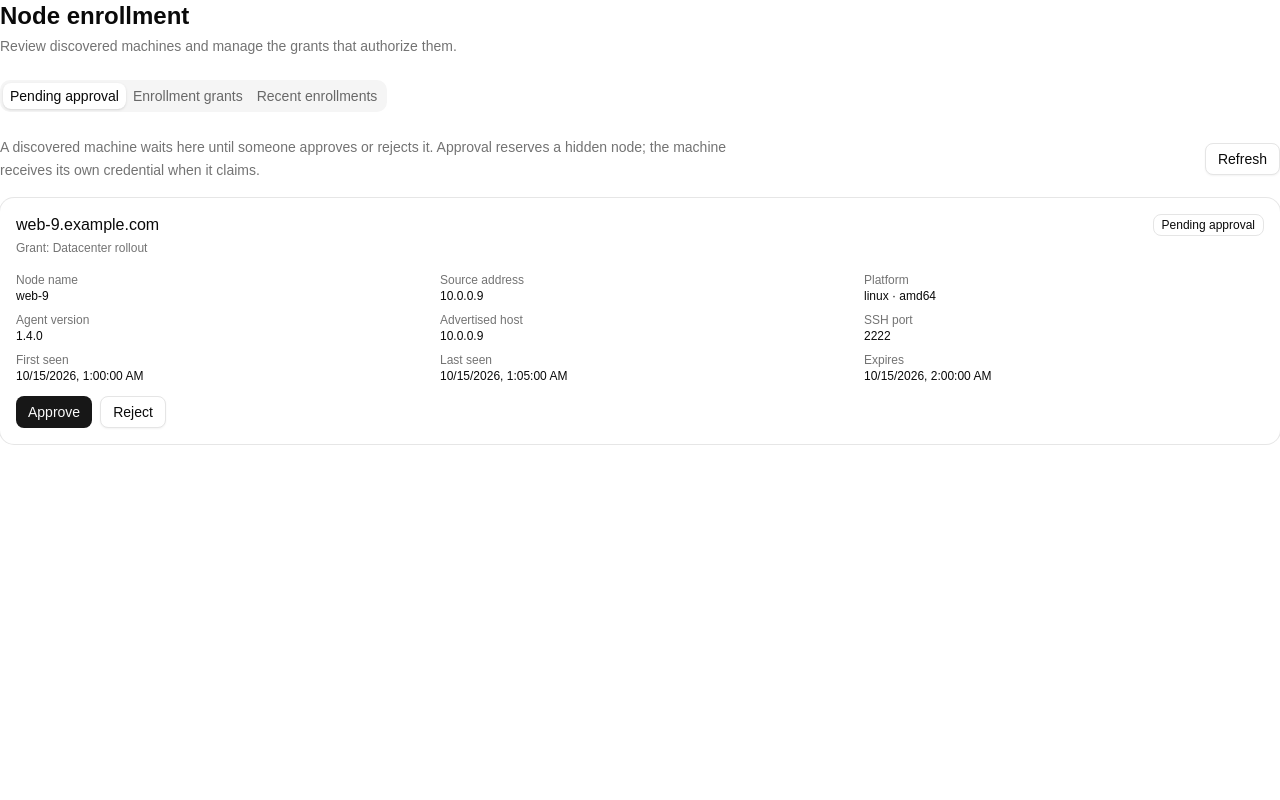
Scenario: node enrollment workspace › approves a request with the final node fields chosen in the sheet
The image size is (1280, 800).
Click the button "Approve" at (54, 412), box [16,396,92,428]
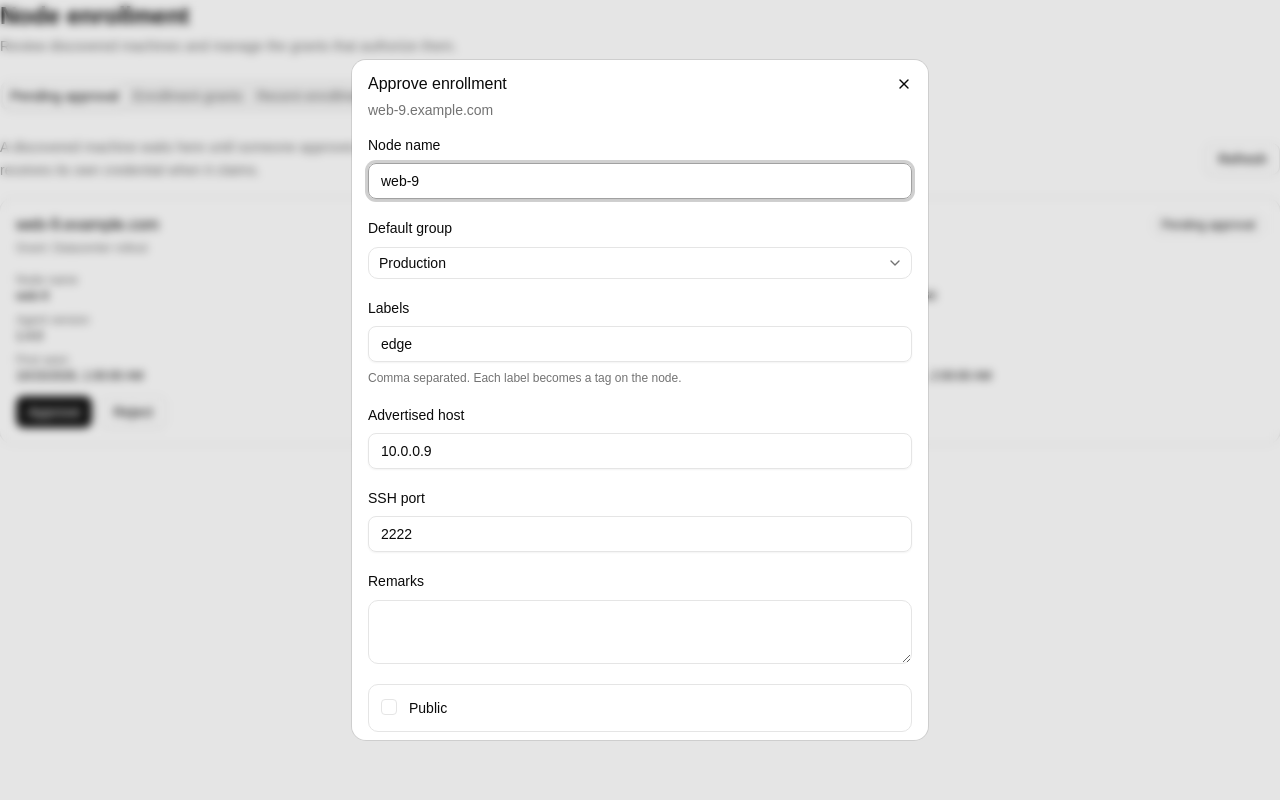
Expected: the field labelled "Node name" holds "web-9"
Expected: the text "Production" is shown, [379,254,446,270]
Replace the text in the field labelled "Node name" with "web-9-final" at (640, 181), box [368,163,912,199]
(page scrolled)
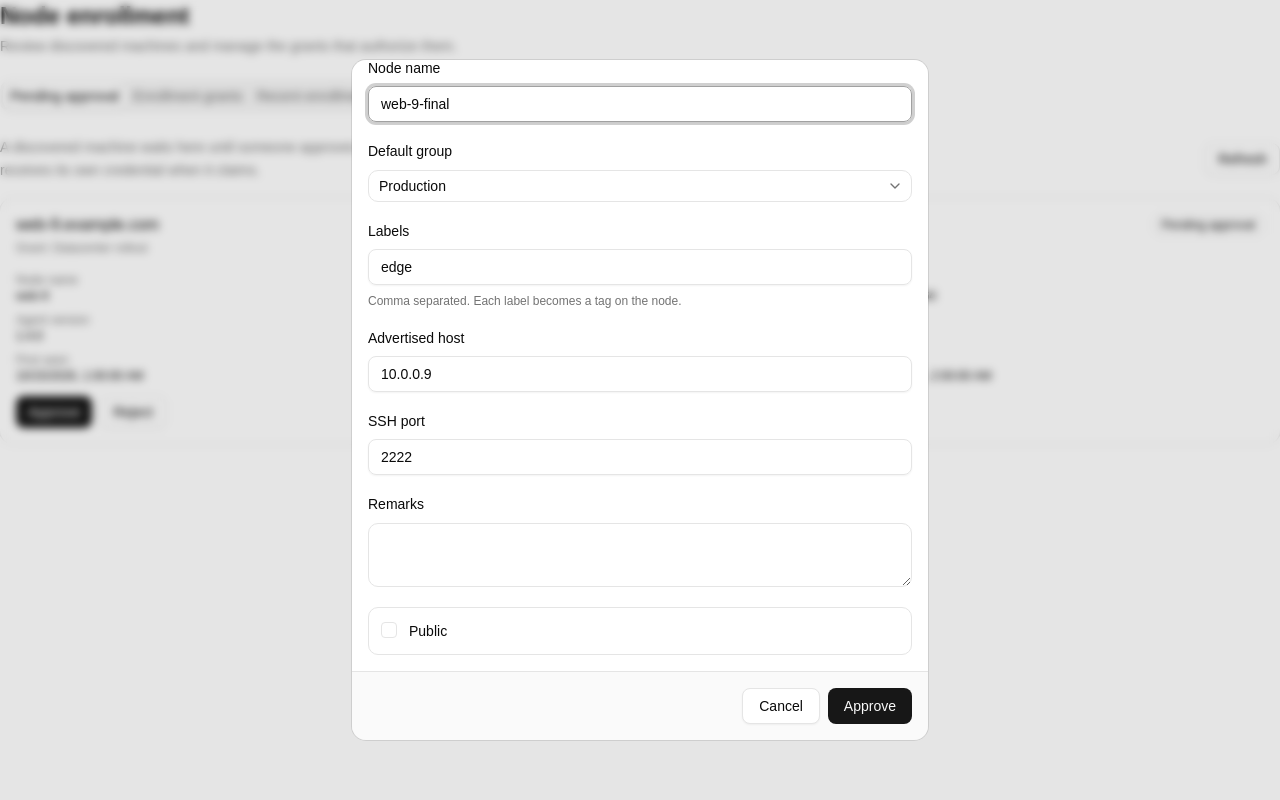
Click the button "Approve" at (870, 706), box [828,688,912,724]
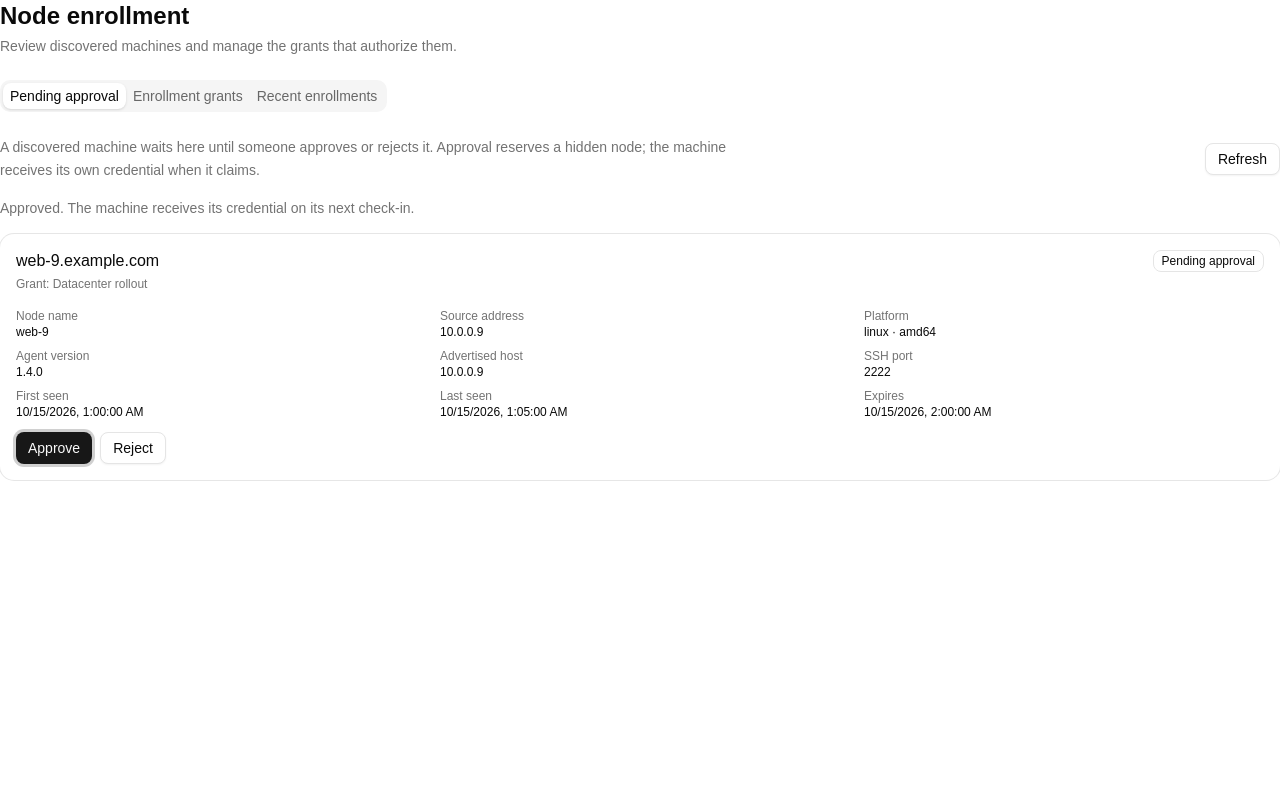
Expected: the message shows "Approved.", [0,200,414,216]
